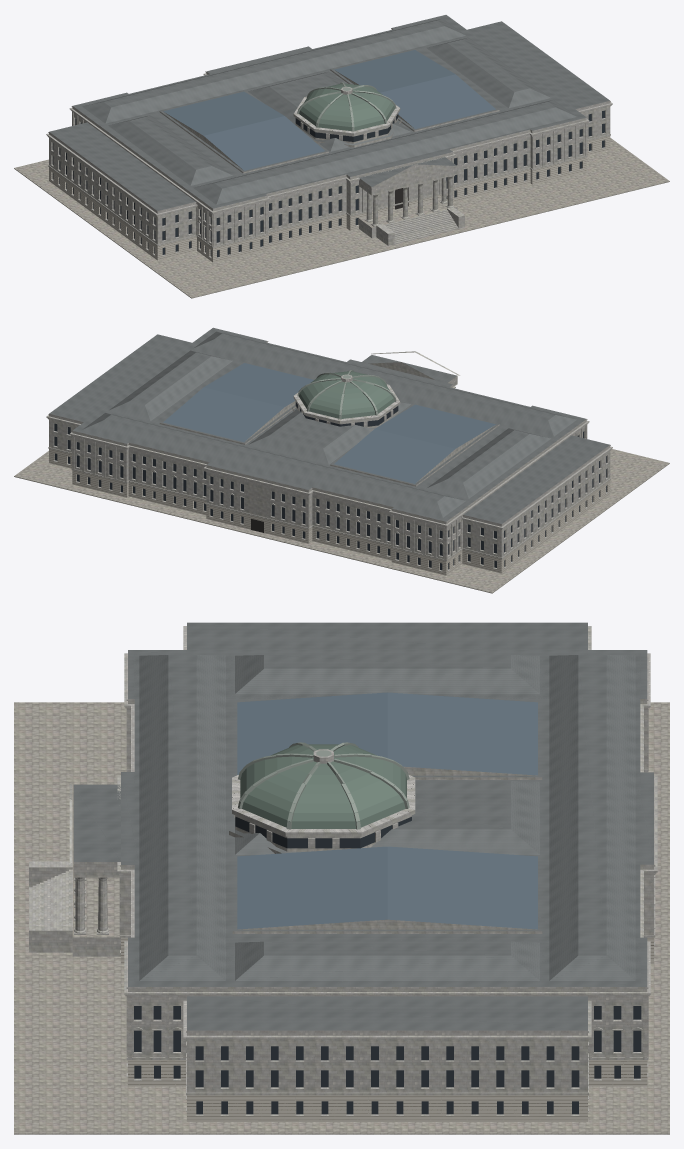
The model's file is natural_history_museum.glb.
3 views of the same model, one above another, from view 1: azimuth 30°, elevation 25°; view 2: azimuth 150°, elevation 25°; view 3: azimuth 270°, elevation 25° (orthographic). The views are drawn at different scales.
Parts seen in each view (by area): view 1: natural_history_museum; view 2: natural_history_museum; view 3: natural_history_museum.
Part boxes in pixels (x1,y1,x2,y2): natural_history_museum: (14,15,669,298); natural_history_museum: (14,327,669,593); natural_history_museum: (14,622,669,1134).
Bounding box in the file's own units: 224 × 40.14 × 144.
Materials: 5 (5 with a texture image).
